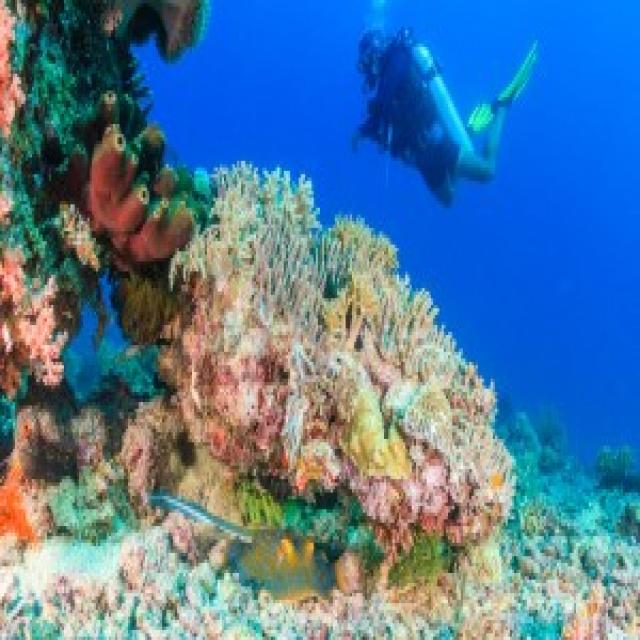Healthy: (114, 162, 515, 628), (88, 128, 193, 266), (1, 246, 67, 396), (1, 1, 22, 135)
